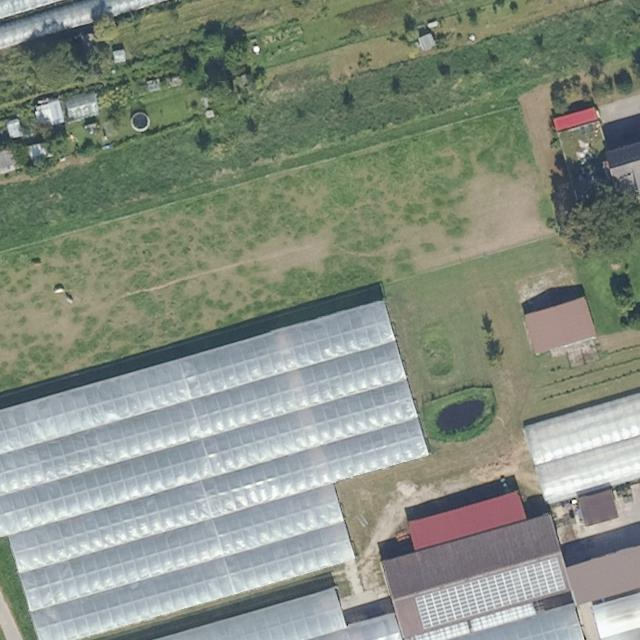PV: (415, 557, 567, 631)
